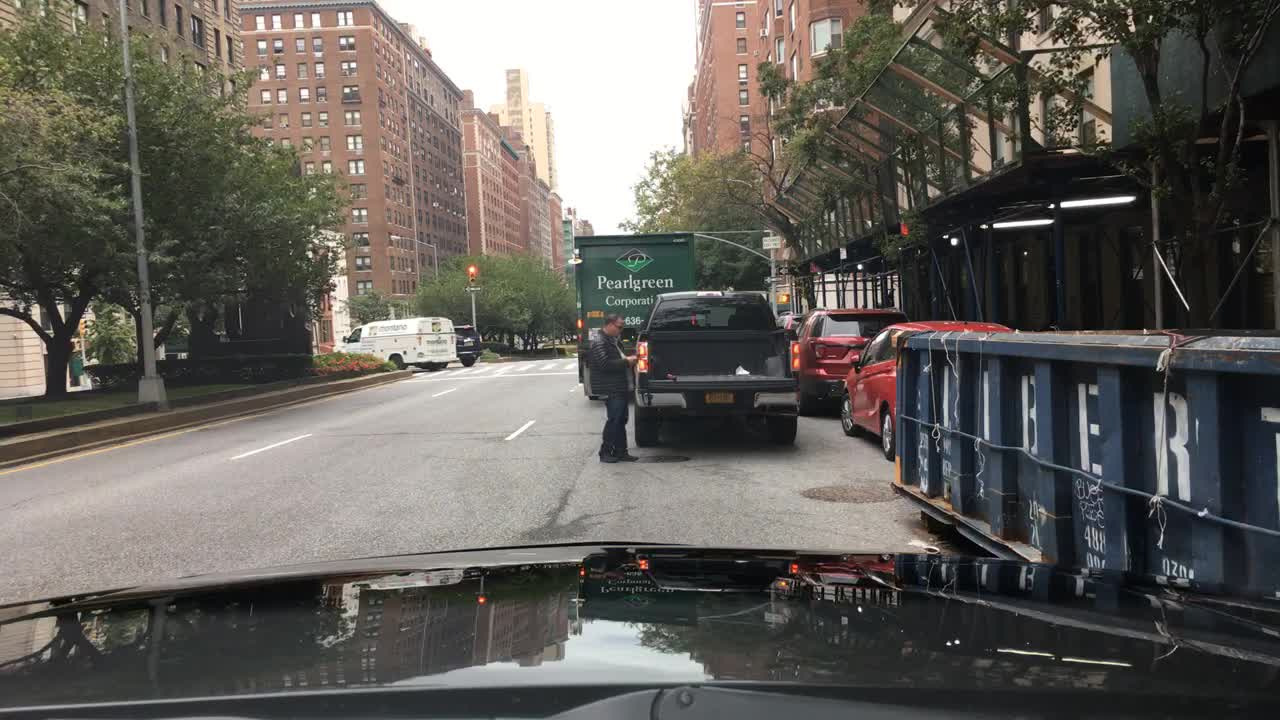car: (627, 287, 798, 449), (840, 320, 1011, 461), (788, 307, 908, 418), (452, 326, 486, 366), (776, 310, 805, 341)
person: (584, 312, 638, 466)
traffic light: (467, 263, 477, 287), (77, 317, 89, 337), (776, 290, 793, 304)
traffic sign: (761, 233, 779, 251), (761, 273, 786, 285), (462, 283, 481, 295)
truck: (570, 233, 698, 383), (341, 314, 457, 371)
